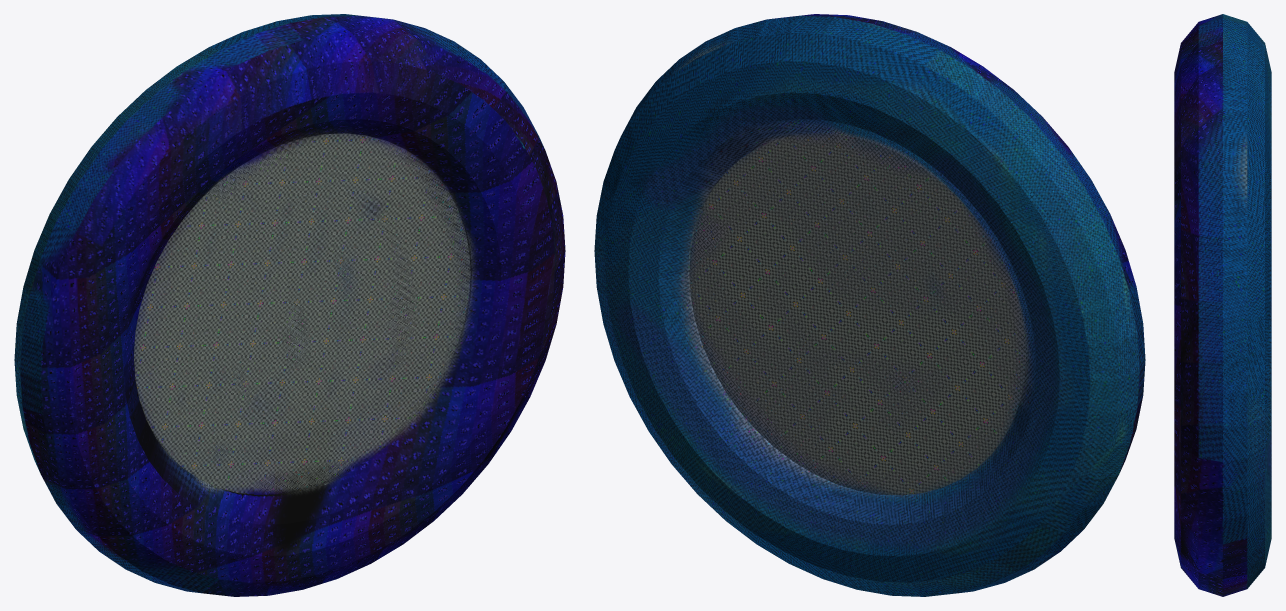
Rendered from Hole.dae.
3 views of the same model, side by side, from view 1: azimuth 30°, elevation 25°; view 2: azimuth 150°, elevation 25°; view 3: azimuth 270°, elevation 25° (orthographic). The views are drawn at different scales.
Visible parts, largest first — view 1: Cube; view 2: Cube; view 3: Cube.
Part boxes in pixels (box(x1,y1,x2,y2)): Cube: box(14, 14, 565, 596); Cube: box(594, 14, 1145, 596); Cube: box(1174, 14, 1271, 596).
Bounding box in the file's own units: 1.5 × 0.25 × 1.5.
1 material, 1 textured.
